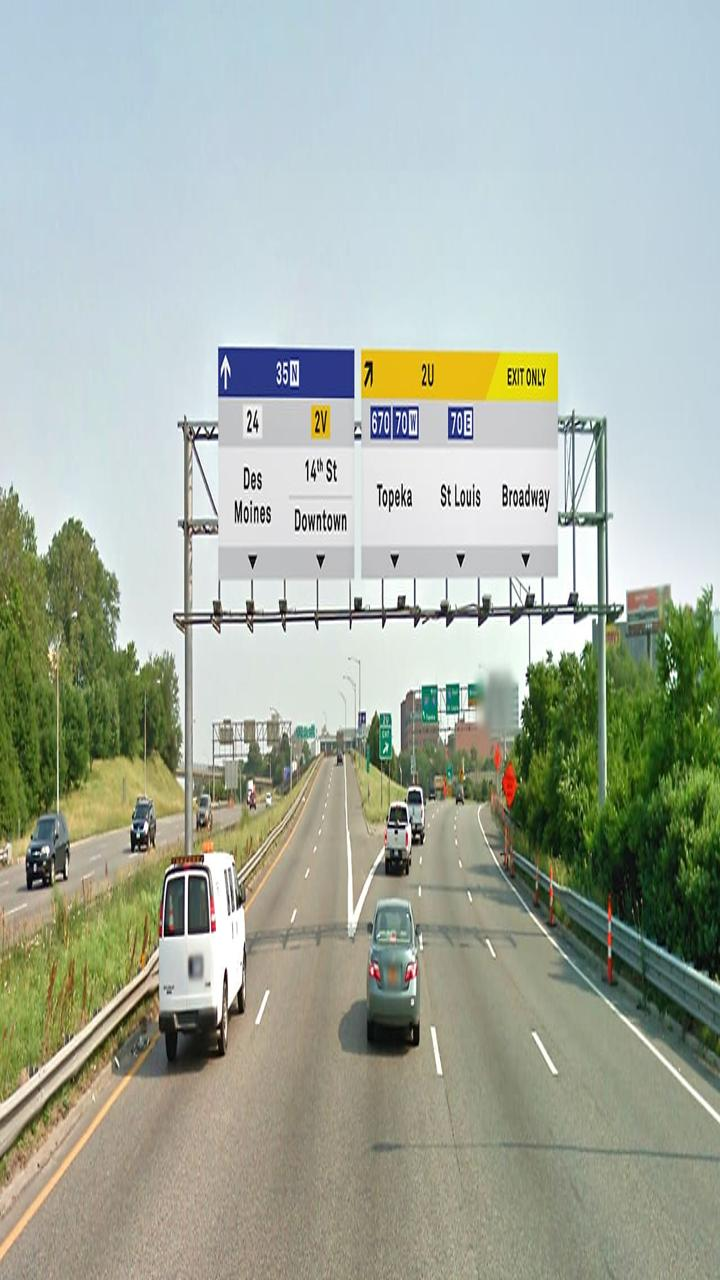Traffic sign: (208, 347, 570, 589)
vehicle: (135, 852, 270, 1059), (366, 895, 426, 1055), (3, 803, 90, 899), (369, 799, 427, 891), (106, 791, 160, 864)
